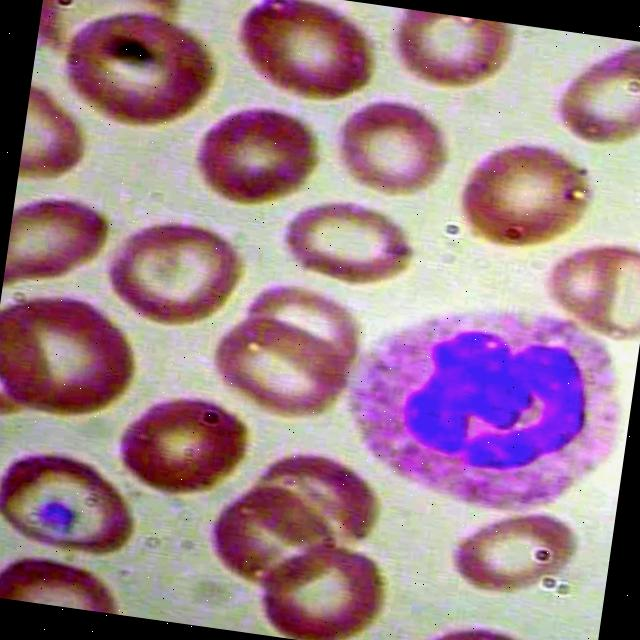RBC: (50, 3, 219, 139), (94, 206, 262, 342), (0, 287, 146, 430), (206, 304, 360, 436), (0, 438, 141, 571), (450, 135, 592, 266), (200, 476, 342, 604), (110, 386, 252, 513), (182, 94, 326, 216), (225, 0, 382, 111), (245, 526, 387, 640), (323, 92, 460, 210), (444, 498, 582, 612), (274, 192, 419, 298), (368, 6, 514, 108), (526, 33, 640, 159), (519, 231, 640, 344), (2, 187, 117, 304)
WBC: (327, 272, 640, 530)
